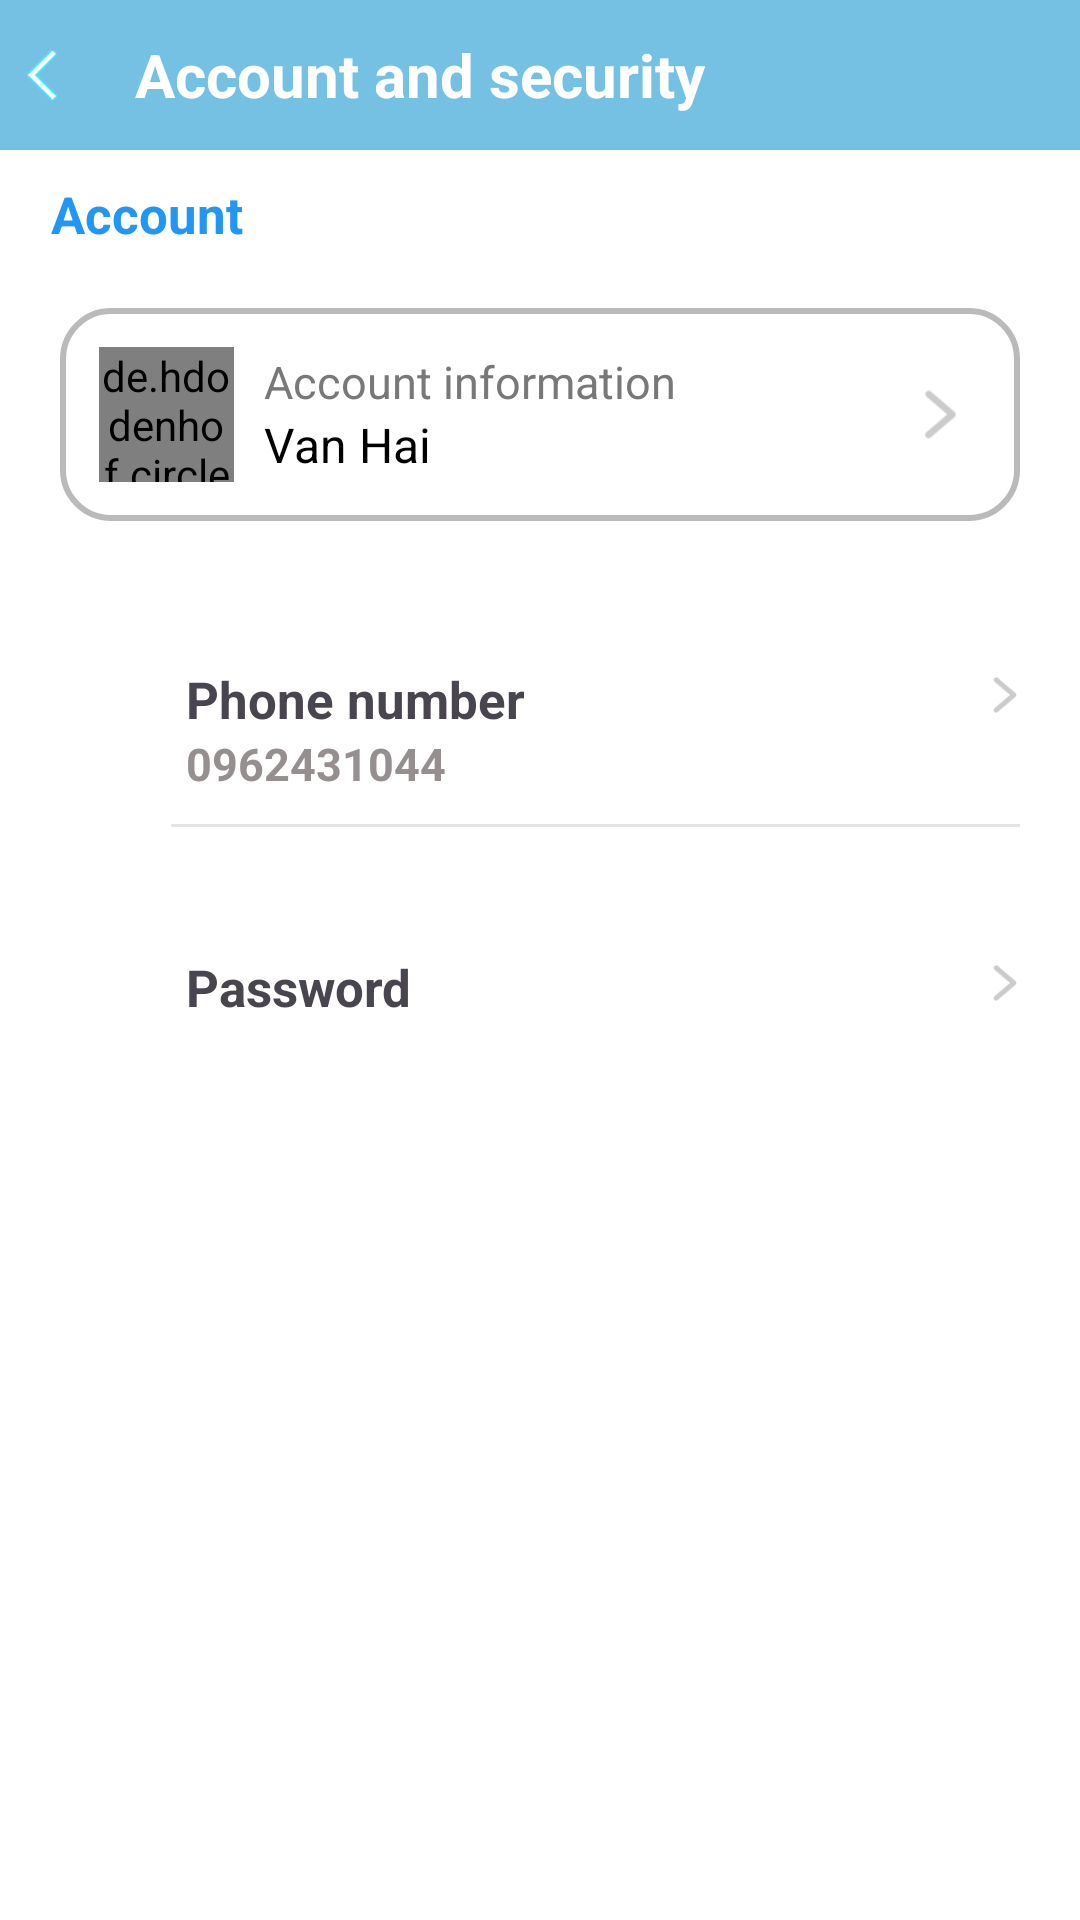

Icon click points for this 1080 × 1920 phone screenshot, format [x,y]:
left: [42,75]
